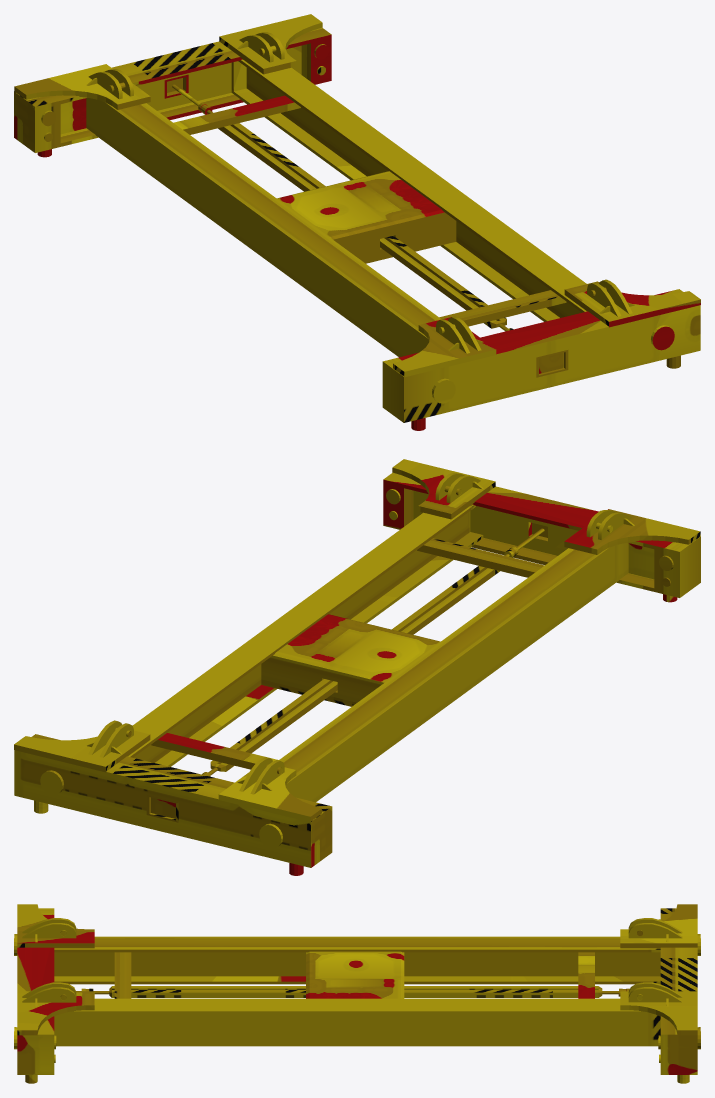
File: spreder_itog.fbx
3 views of the same model, one above another, from view 1: azimuth 30°, elevation 25°; view 2: azimuth 150°, elevation 25°; view 3: azimuth 270°, elevation 25° (orthographic). The views are drawn at different scales.
Parts seen in each view (by area): view 1: Cube.002; view 2: Cube.002; view 3: Cube.002.
Boxes of the visible parts, bbox=[...] form: Cube.002: bbox=[14, 14, 700, 430]; Cube.002: bbox=[14, 459, 700, 875]; Cube.002: bbox=[14, 904, 700, 1083].
Size of the model in its own units: 497 by 133 by 1140.
